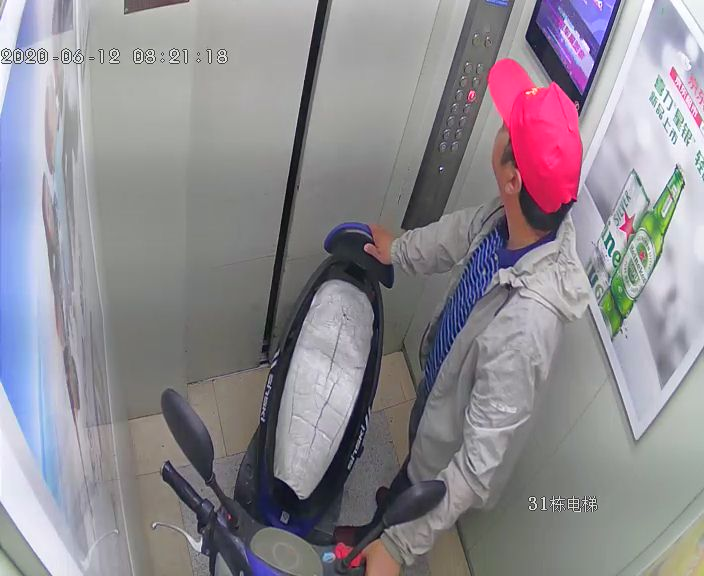Electric-bicycle: (215, 210, 392, 576)
